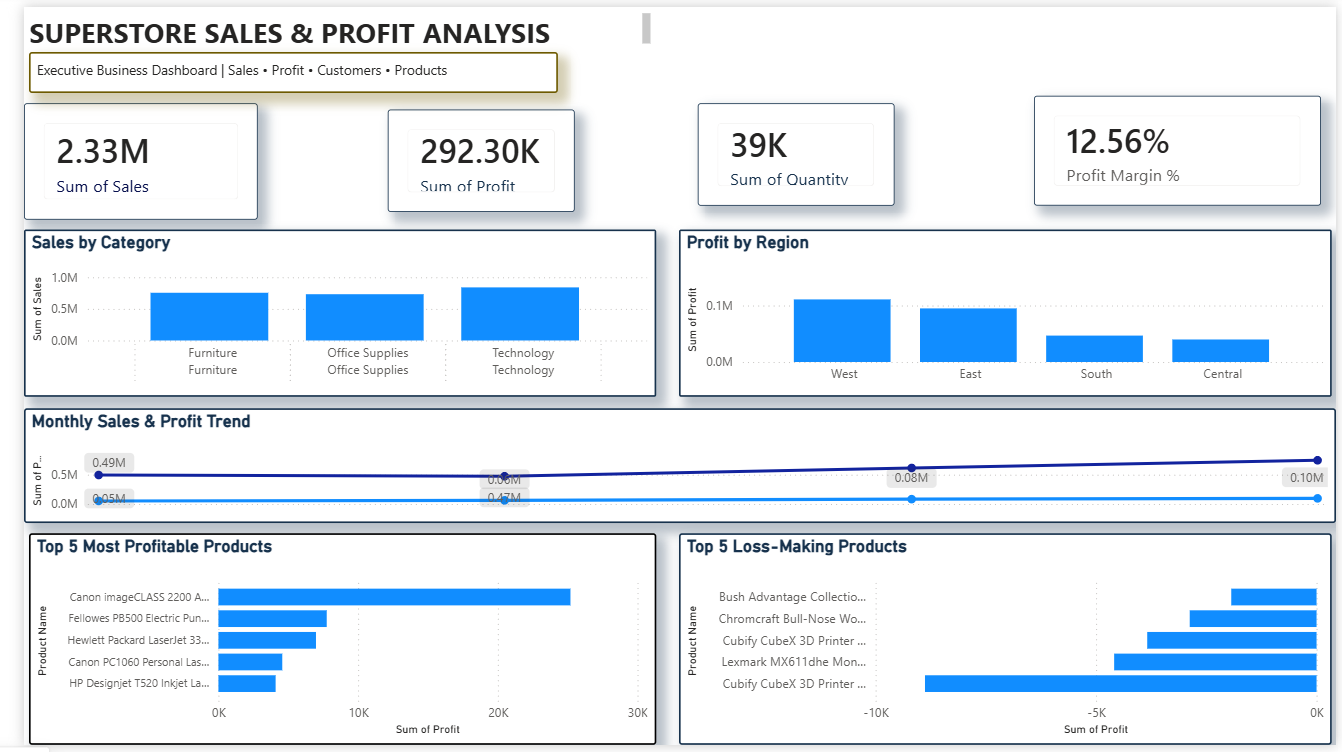

The dashboard page shown, as its layout file describes it:
{"tool":"powerbi","page":{"name":"Page 1","canvas":[1280,720],"ordinal":0},"visuals":[{"type":"cardVisual","fields":{"Data":["Sum(superstore_mysql.Sales)"]},"box":[0,94.1,228,113.4],"z":0},{"type":"cardVisual","fields":{"Data":["Sum(superstore_mysql.Profit)"]},"box":[354.7,100.1,182.2,100.1],"z":1000},{"type":"cardVisual","fields":{"Data":["Sum(superstore_mysql.Quantity)"]},"box":[657.5,94.1,191.8,100.1],"z":2000},{"type":"cardVisual","fields":{"Data":["superstore_mysql.Profit Margin %"]},"box":[985.7,86.9,279.9,107.4],"z":3000},{"type":"clusteredColumnChart","title":" Sales by Category","fields":{"Category":["superstore_mysql.Category","superstore_mysql.Category"],"Y":["Sum(superstore_mysql.Sales)"]},"box":[0,217.2,616.5,162.9],"z":4000},{"type":"clusteredColumnChart","title":"Profit by Region","fields":{"Category":["superstore_mysql.Region"],"Y":["Sum(superstore_mysql.Profit)"]},"box":[639.4,217.2,637,162.9],"z":5000},{"type":"lineChart","title":"Monthly Sales & Profit Trend","fields":{"Category":["superstore_mysql.Order Date.Variation.Date Hierarchy.Year","superstore_mysql.Order Date.Variation.Date Hierarchy.Month"],"Y":["Sum(superstore_mysql.Profit)","Sum(superstore_mysql.Sales)"]},"box":[0,390.9,1280,112.2],"z":6000},{"type":"barChart","title":"Top 5 Most Profitable Products","fields":{"Category":["superstore_mysql.Product Name"],"Y":["Sum(superstore_mysql.Profit)"]},"box":[4.8,513.9,611.7,206.3],"z":7000},{"type":"clusteredBarChart","title":"Top 5 Loss-Making Products","fields":{"Category":["superstore_mysql.Product Name"],"Y":["Sum(superstore_mysql.Profit)"]},"box":[639.4,513.9,637,206.3],"z":8000},{"type":"textbox","box":[0,1.2,616.5,42.2],"z":8001},{"type":"textbox","box":[4.8,43.4,516.4,39.8],"z":8002}]}

Visuals, with their boxes in screenshot pixels (x1, y1, x2, y2), scaled from the page's 1280x720 canvas onto the 1342x752 screenshot:
cardVisual - Sum(superstore_mysql.Sales): rect(0, 98, 239, 217)
cardVisual - Sum(superstore_mysql.Profit): rect(372, 105, 563, 209)
cardVisual - Sum(superstore_mysql.Quantity): rect(689, 98, 890, 203)
cardVisual - superstore_mysql.Profit Margin %: rect(1033, 91, 1327, 203)
" Sales by Category" clusteredColumnChart: rect(0, 227, 646, 397)
"Profit by Region" clusteredColumnChart: rect(670, 227, 1338, 397)
"Monthly Sales & Profit Trend" lineChart: rect(0, 408, 1341, 525)
"Top 5 Most Profitable Products" barChart: rect(5, 537, 646, 751)
"Top 5 Loss-Making Products" clusteredBarChart: rect(670, 537, 1338, 751)
textbox: rect(0, 1, 646, 45)
textbox: rect(5, 45, 546, 87)
